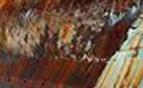rust: (2, 48, 104, 88), (1, 1, 141, 24), (20, 19, 87, 62), (90, 18, 125, 59), (118, 64, 141, 88)
